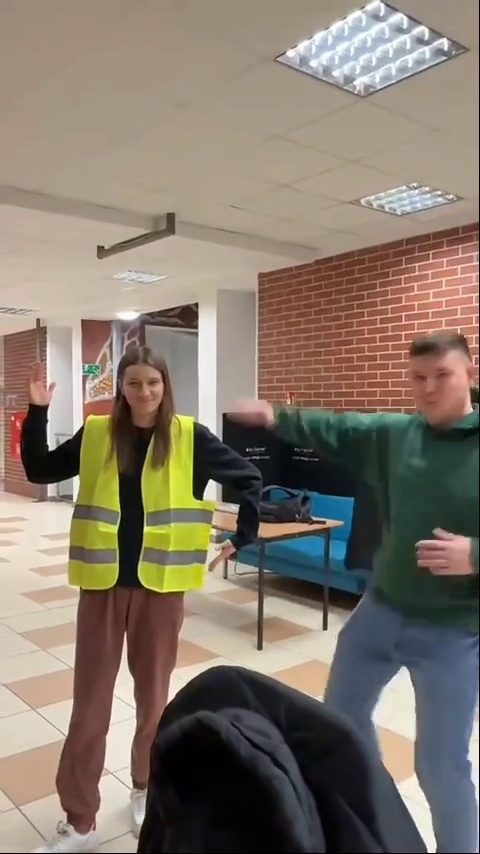no vest: (293, 324, 477, 823)
vest: (21, 337, 250, 827)
